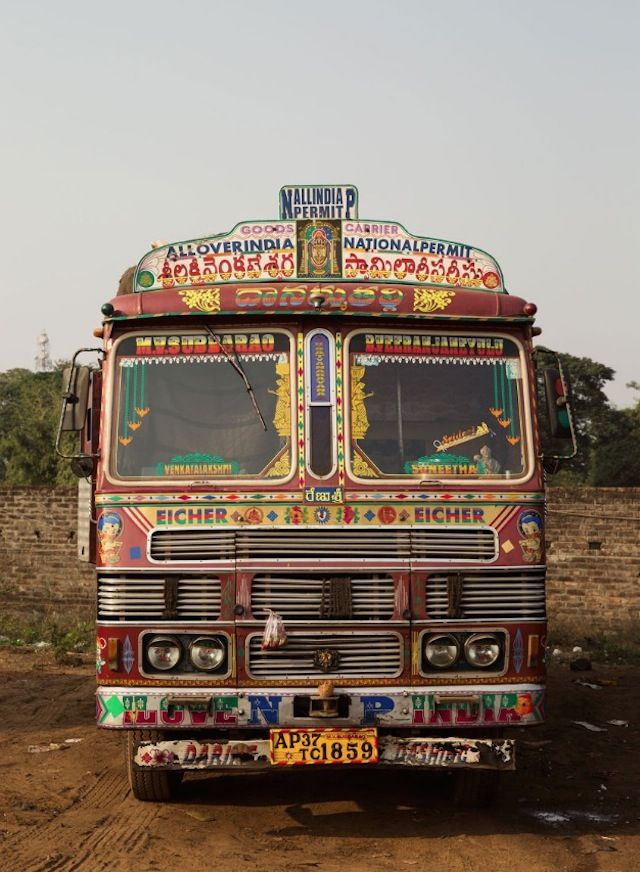lorry: (58, 181, 569, 816)
numberplate: (259, 724, 401, 782)
